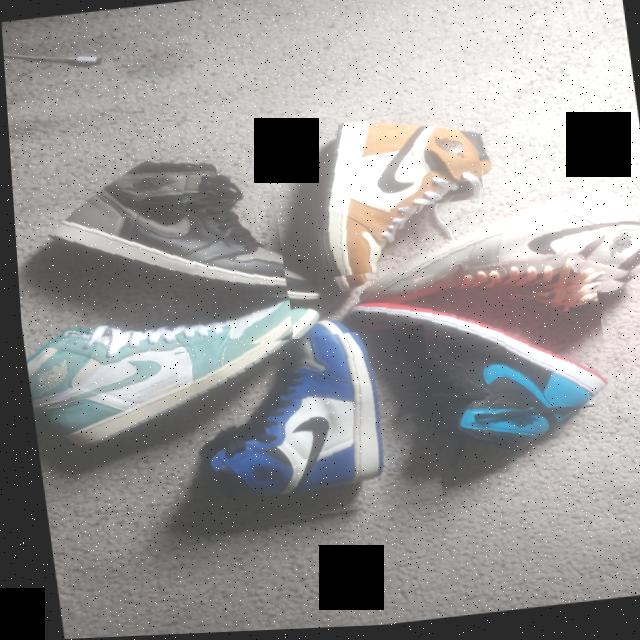shoe: (169, 327, 441, 537), (346, 283, 613, 491), (30, 145, 286, 336), (385, 185, 640, 318), (297, 111, 489, 281), (17, 298, 297, 410)
